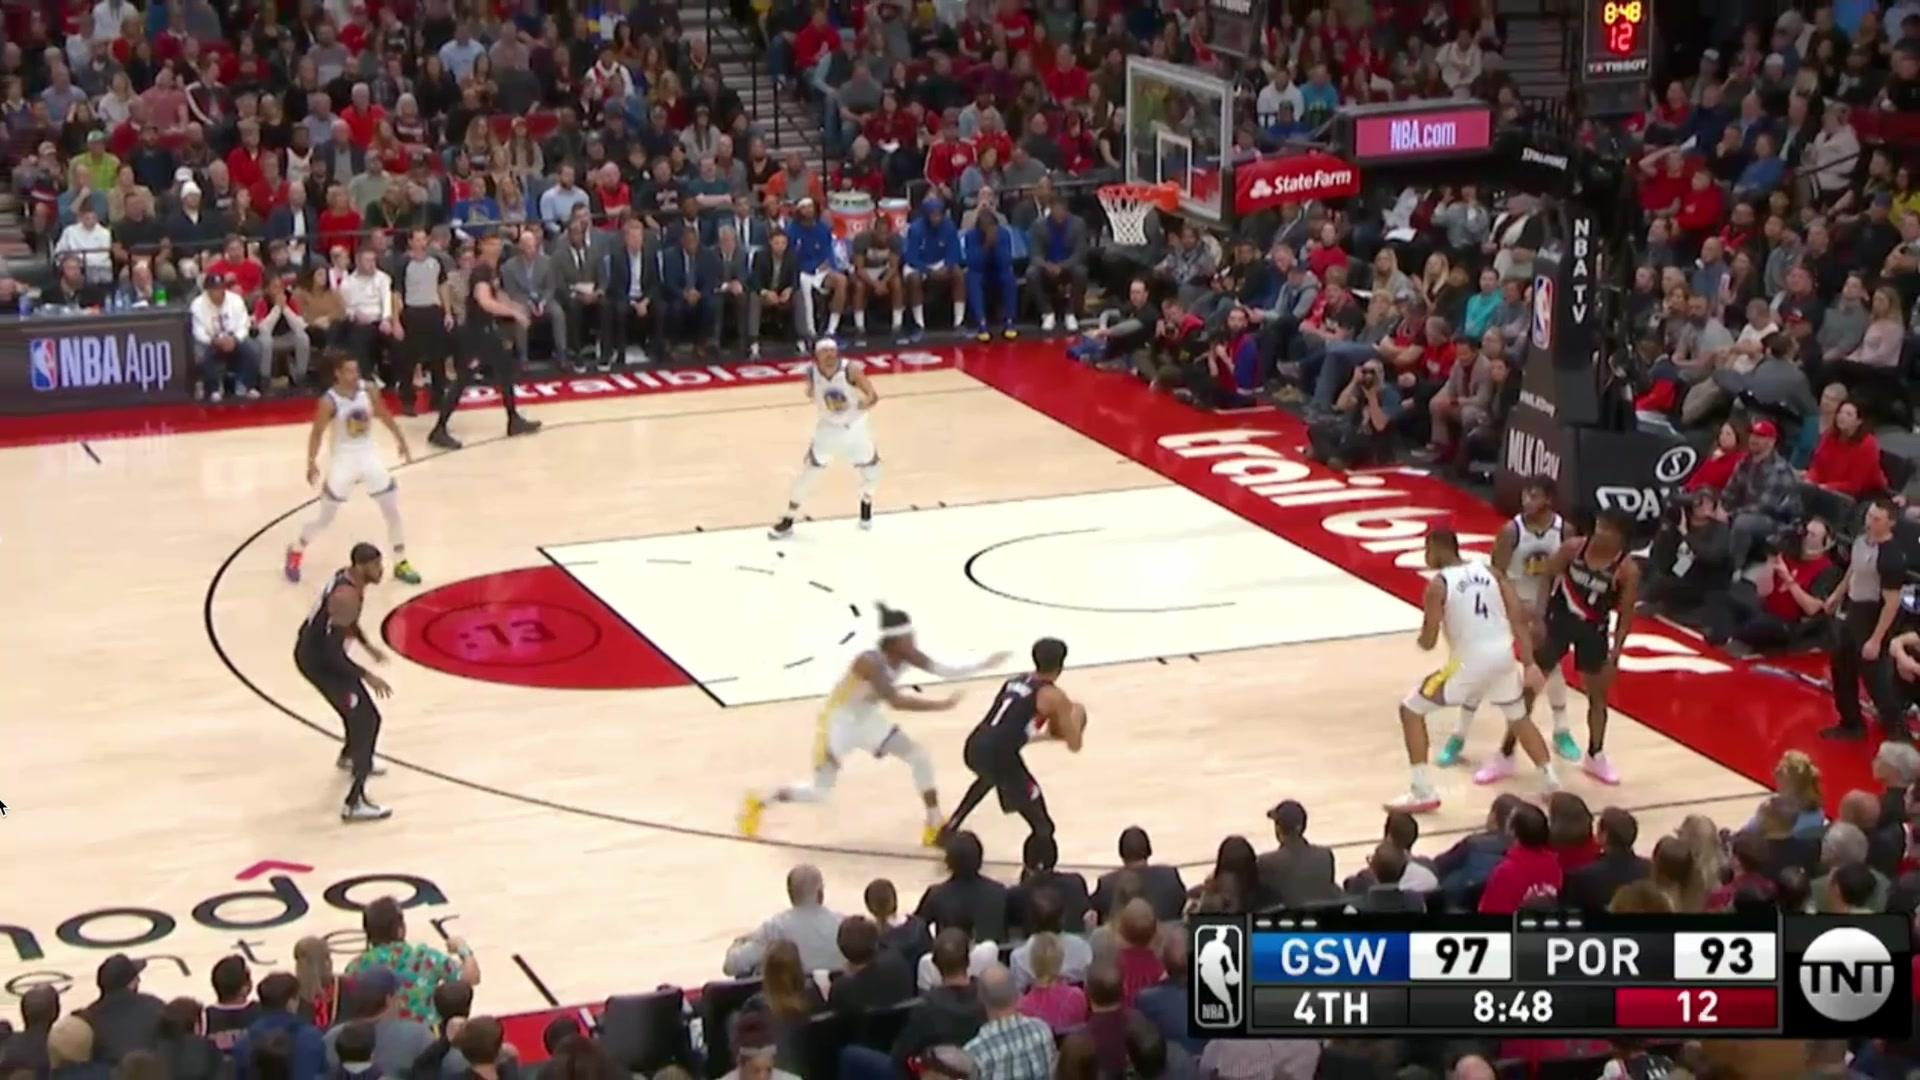no_foul: (811, 589, 1067, 824)
